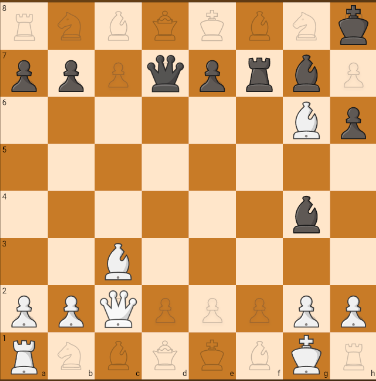bb: (287, 53, 327, 96), (282, 74, 286, 76)
bk: (329, 3, 372, 48)
bp: (2, 53, 44, 94), (335, 99, 371, 141), (53, 55, 90, 95)
bq: (143, 53, 188, 96), (285, 193, 328, 235)
br: (237, 51, 279, 94)
wb: (96, 240, 141, 286), (289, 99, 322, 142)
wk: (285, 335, 329, 381), (97, 287, 138, 332)
wp: (334, 289, 376, 331), (287, 288, 326, 330), (52, 291, 90, 330), (3, 292, 42, 329)
wr: (2, 336, 44, 375)
